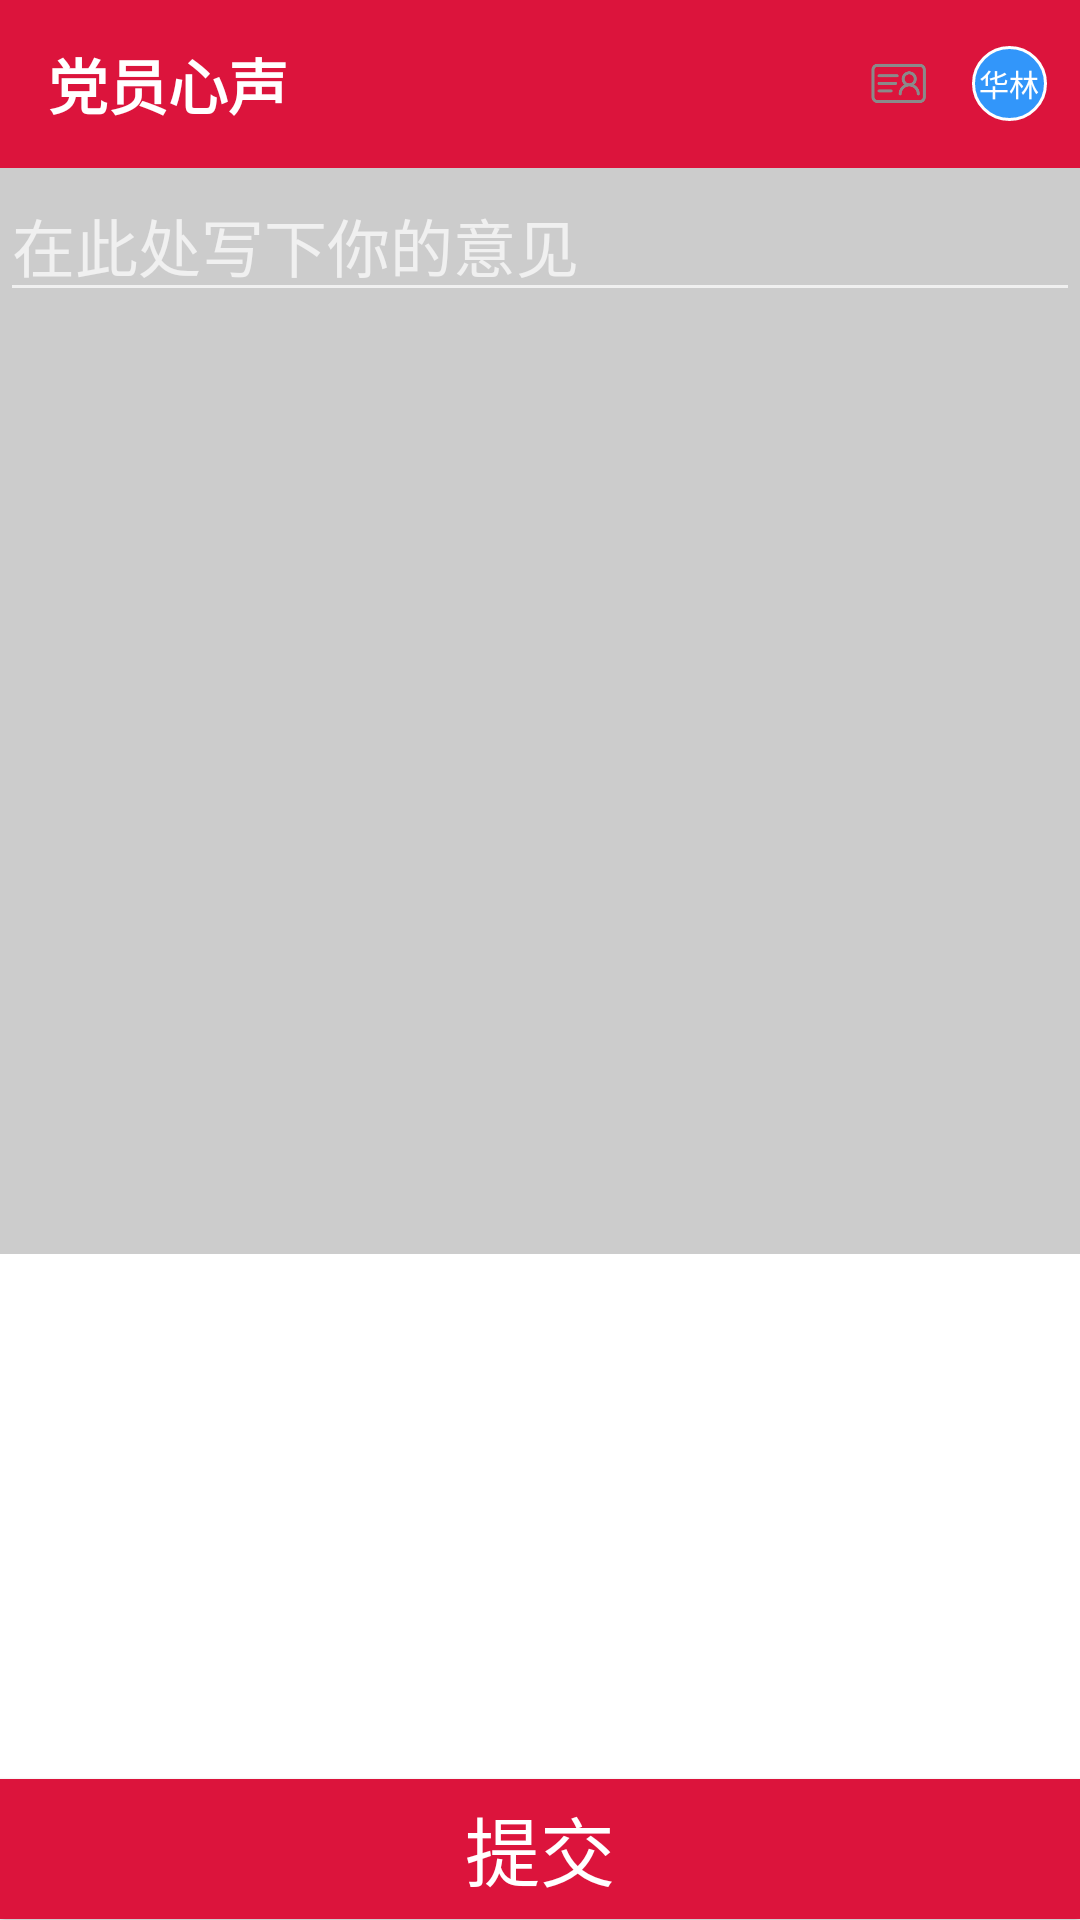

Screen size 1080x1920. Icon name, then its center in pixels as (x,y):
ident: (898,83)
